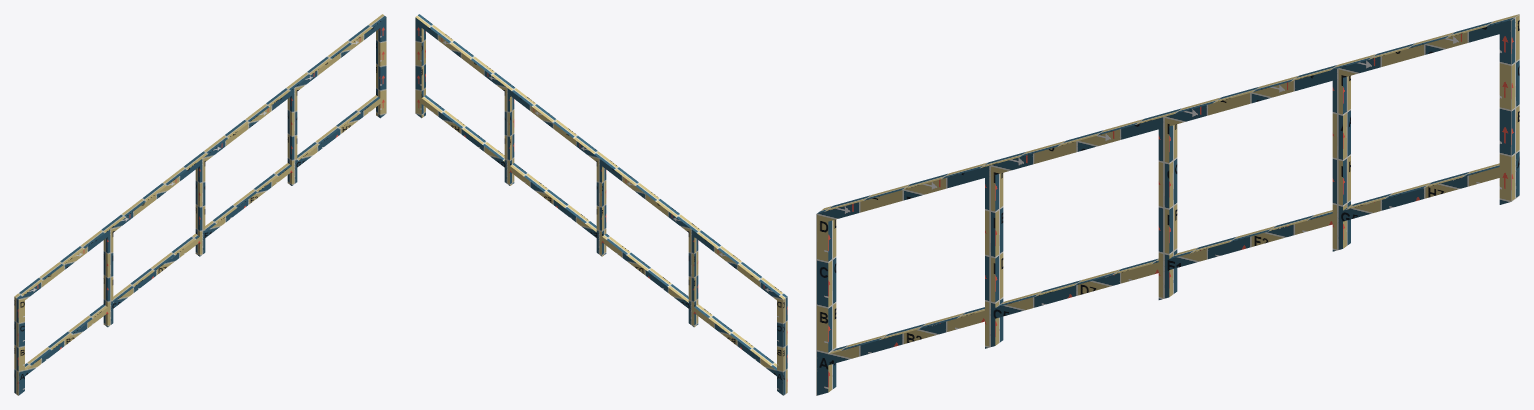
Rendered from STAIR_Railing.fbx.
The picture shows the model from 3 angles, left to right: view 1: azimuth 30°, elevation 25°; view 2: azimuth 150°, elevation 25°; view 3: azimuth 330°, elevation 25°; orthographic projection. The views are drawn at different scales.
Visible parts, largest first — view 1: STAIR_Railing; view 2: STAIR_Railing; view 3: STAIR_Railing.
Boxes of the visible parts, x1,y1,x2,y2 form: STAIR_Railing: (14, 14, 386, 395); STAIR_Railing: (415, 14, 787, 395); STAIR_Railing: (816, 14, 1519, 395).
Size of the model in its own units: 400 by 300 by 8.
1 material, 1 textured.
